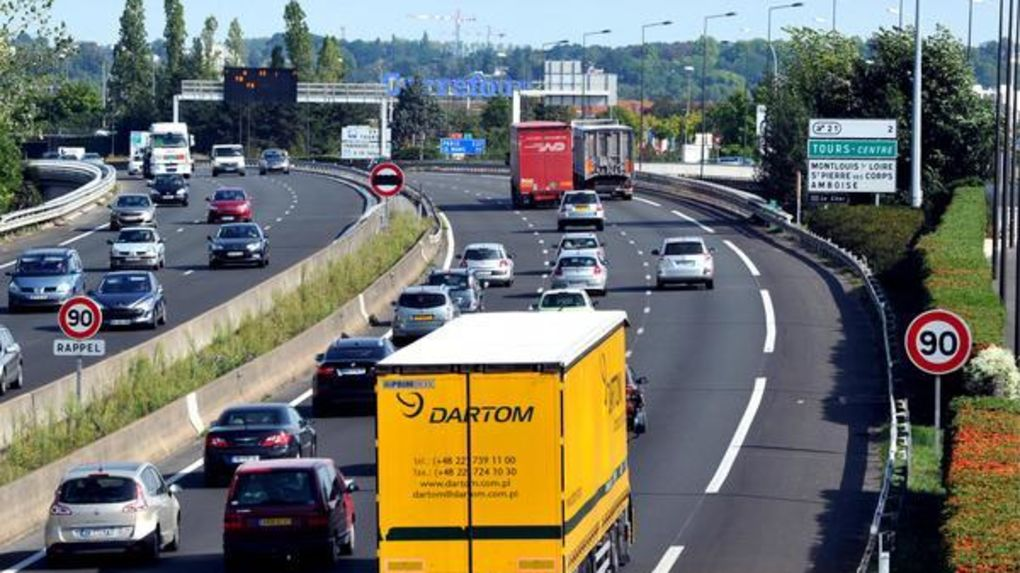Speed_limit_90km: (902, 310, 973, 376), (58, 297, 102, 340)
car: (40, 458, 184, 558), (198, 399, 325, 480), (314, 323, 407, 414), (8, 243, 87, 307), (650, 237, 719, 293), (203, 222, 275, 270), (104, 226, 170, 272), (459, 244, 516, 288), (553, 190, 607, 232), (202, 183, 255, 224), (105, 190, 157, 231), (207, 145, 248, 179)
